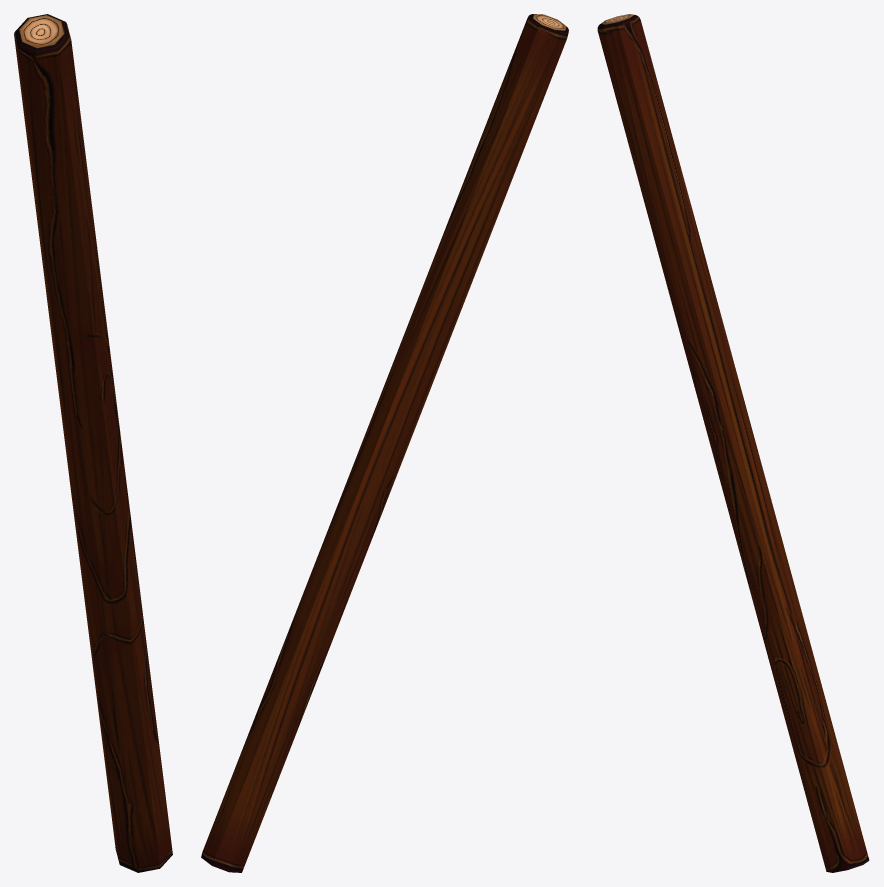
The model's file is tiang_lampionkiri.obj.
The picture shows the model from 3 angles, left to right: view 1: azimuth 30°, elevation 25°; view 2: azimuth 150°, elevation 25°; view 3: azimuth 270°, elevation 25°; orthographic projection. The views are drawn at different scales.
Parts seen in each view (by area): view 1: StallMesh; view 2: StallMesh; view 3: StallMesh.
Boxes of the visible parts, x1,y1,x2,y2 form: StallMesh: (14,14,172,872); StallMesh: (201,14,568,872); StallMesh: (597,14,869,872).
Bounding box in the file's own units: 0.0593 × 0.1897 × 0.0611.
